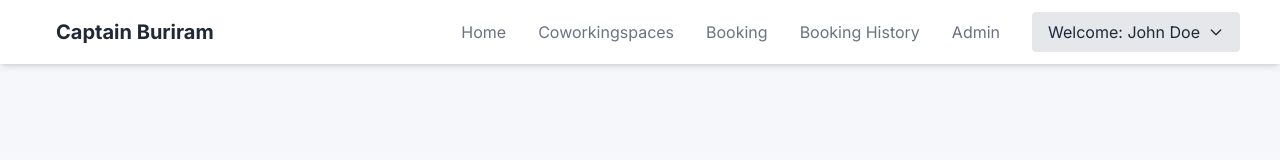
it: TopMenu Component › toggles dropdown menu when the user clicks on the dropdown button
Expected: the text "Logout" is not shown
Step 1. Click the button "Welcome: John Doe" → [1136, 32], box x1=1032 y1=12 x2=1240 y2=52
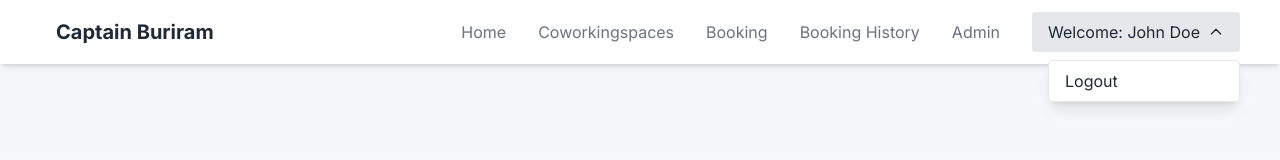
Now the link "Logout" is shown, box x1=1065 y1=71 x2=1118 y2=91
Step 2. Click the button "Welcome: John Doe" → [1136, 32], box x1=1032 y1=12 x2=1240 y2=52
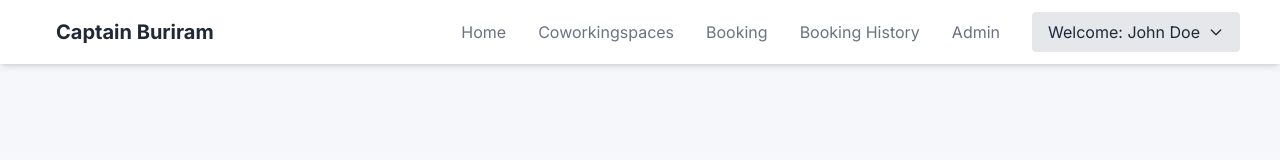
Now the link "Logout" is gone
